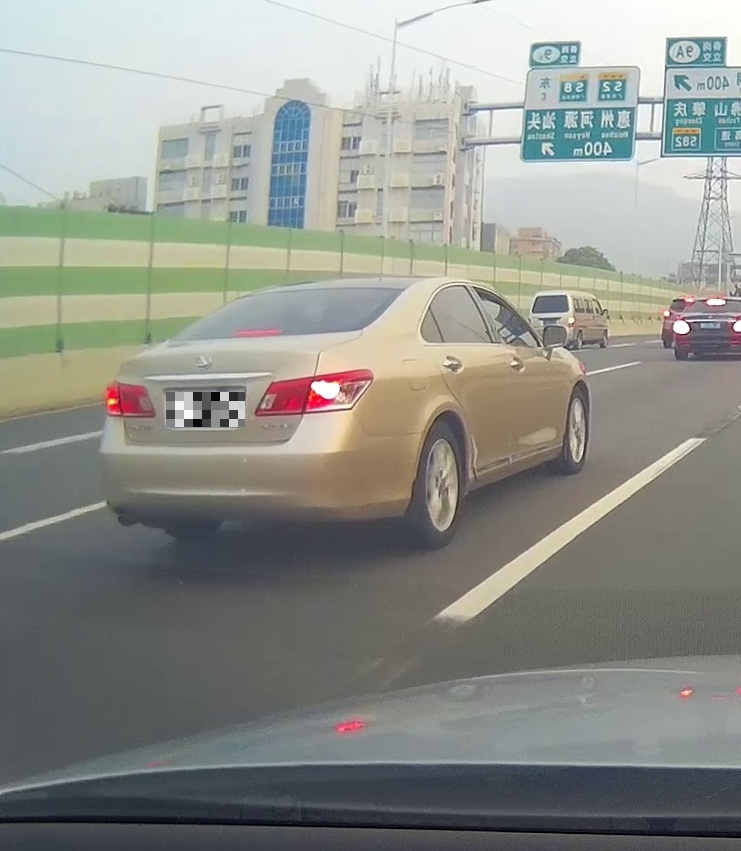L_light: (104, 379, 157, 418), (672, 319, 690, 335)
R_light: (254, 369, 374, 417), (733, 320, 741, 332)
T_light: (230, 329, 282, 338), (706, 300, 726, 303)
day-brake: (672, 298, 741, 360)
day-right: (98, 277, 418, 550)
plate_1: (166, 392, 245, 427)
